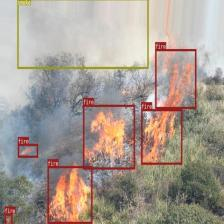fire: (82, 104, 134, 169), (48, 166, 92, 223), (155, 48, 196, 108), (141, 109, 182, 164), (18, 144, 38, 157), (4, 213, 12, 224)
smoke: (17, 0, 148, 69)
